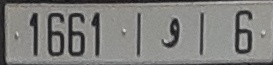1: (27, 11, 41, 56), (90, 11, 102, 57)
6: (234, 8, 254, 55), (46, 11, 65, 58), (68, 12, 86, 57)
waw: (159, 14, 183, 49)
